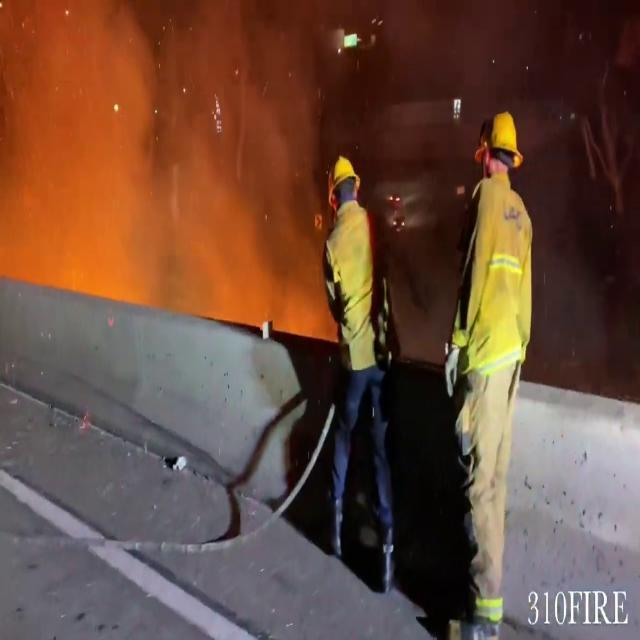Smoke: (0, 0, 346, 310)
